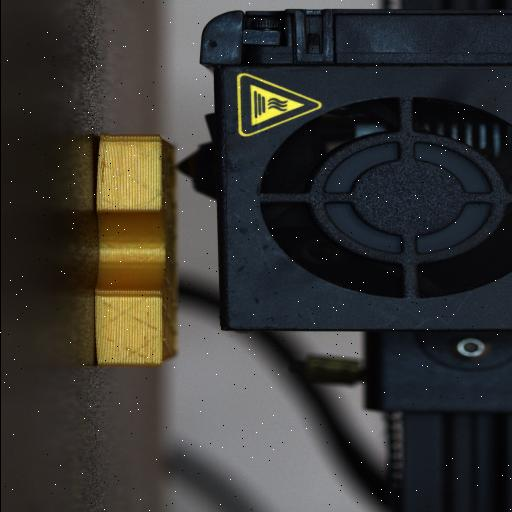warp: (90, 133, 108, 177), (92, 349, 104, 369)
